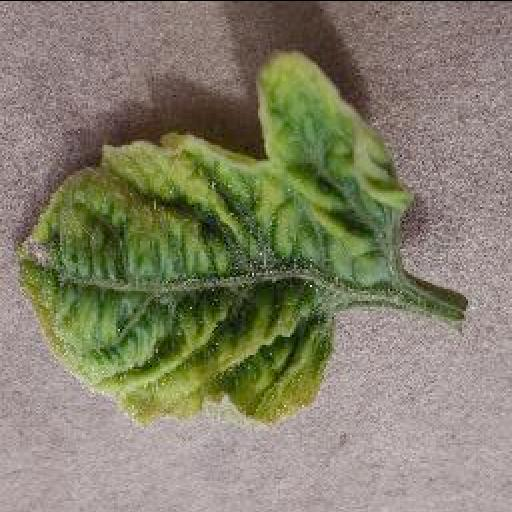disease_tomato: (12, 52, 418, 418)
